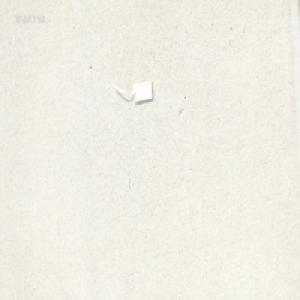LuggageTag: (111, 79, 153, 104)
